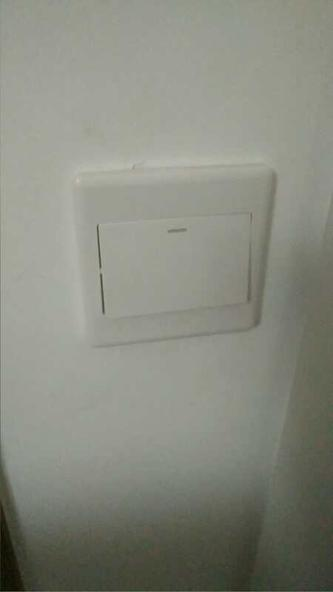switch: (95, 203, 260, 321)
